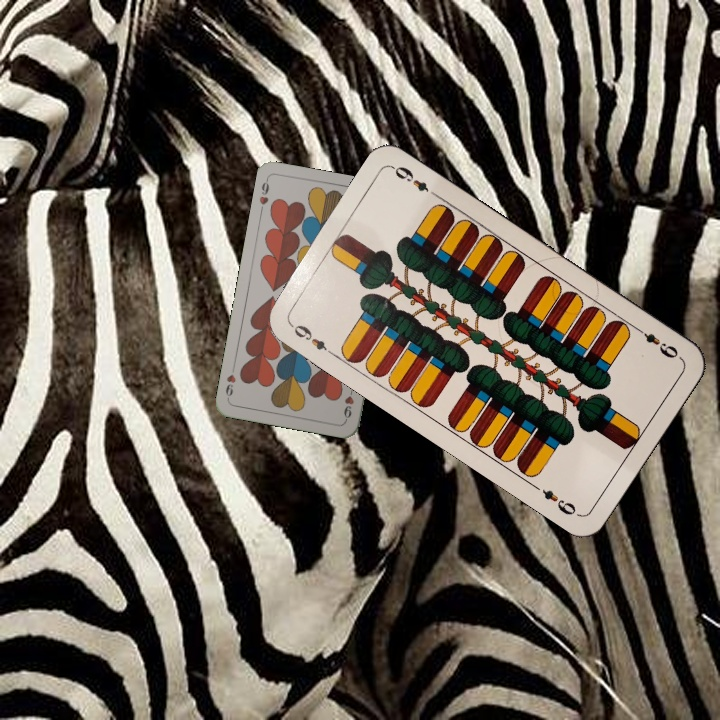E9: (286, 319, 338, 359), (631, 323, 681, 361)
H9: (255, 175, 272, 215), (340, 382, 356, 422)
